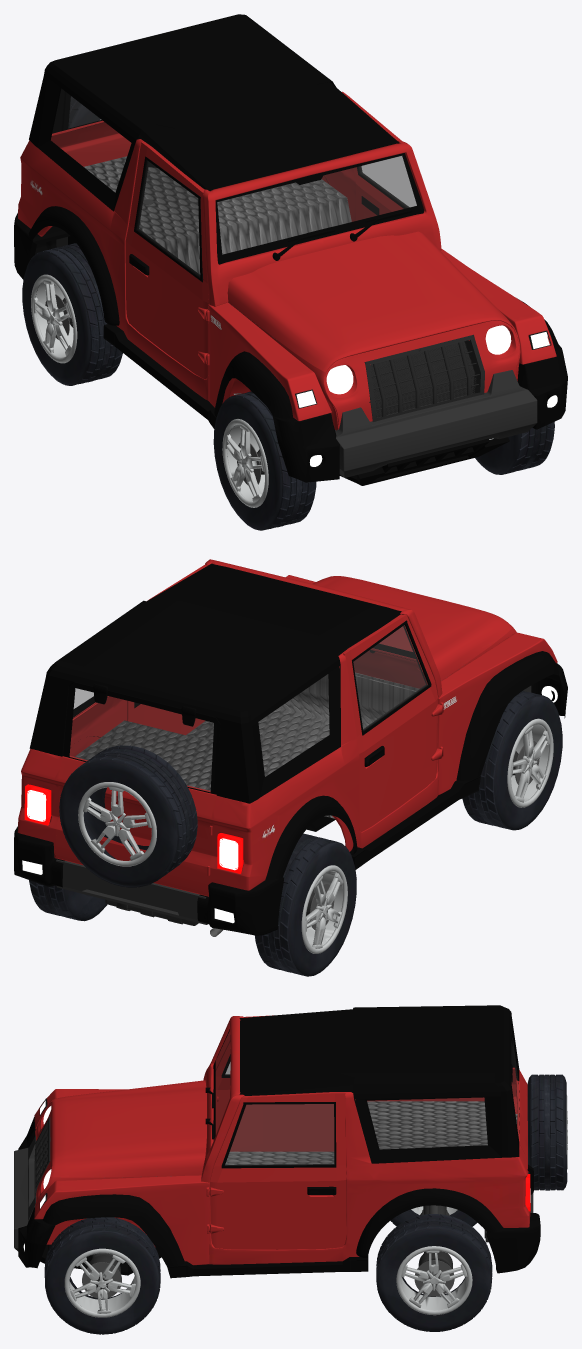
File: mahindra-thar-4x4.glb
3 renders of one model, top to bottom at view 1: azimuth 30°, elevation 25°; view 2: azimuth 150°, elevation 25°; view 3: azimuth 270°, elevation 25°, orthographic. The views are drawn at different scales.
Parts seen in each view (by area): view 1: Object_20, Object_16, Object_39, Object_41, Object_31, Object_6, Object_18, Object_45, Object_43, Object_4, Object_34, Object_47 (+11 smaller); view 2: Object_20, Object_31, Object_41, Object_39, Object_18, Object_6, Object_34, Object_47, Object_16, Object_43, Object_4, Object_27 (+5 smaller); view 3: Object_20, Object_31, Object_18, Object_41, Object_16, Object_39, Object_6, Object_47, Object_34, Object_5, Object_43, Object_45 (+9 smaller).
Part boxes in pixels (left/top/right/bottom): Object_20: left=29, top=14, right=399, bottom=428; Object_16: left=227, top=231, right=511, bottom=372; Object_39: left=51, top=89, right=416, bottom=276; Object_41: left=18, top=131, right=441, bottom=400; Object_31: left=22, top=96, right=554, bottom=530; Object_6: left=84, top=156, right=503, bottom=394; Object_18: left=125, top=91, right=403, bottom=379; Object_45: left=335, top=370, right=537, bottom=477; Object_43: left=14, top=213, right=567, bottom=482; Object_4: left=208, top=302, right=331, bottom=421; Object_34: left=31, top=119, right=493, bottom=507; Object_47: left=28, top=176, right=558, bottom=418; Object_20: left=29, top=563, right=480, bottom=869; Object_31: left=29, top=690, right=562, bottom=976; Object_41: left=17, top=559, right=442, bottom=896; Object_39: left=70, top=625, right=427, bottom=791; Object_18: left=127, top=564, right=443, bottom=875; Object_6: left=75, top=672, right=419, bottom=818; Object_34: left=78, top=718, right=553, bottom=953; Object_47: left=93, top=651, right=559, bottom=879; Object_16: left=312, top=576, right=512, bottom=680; Object_43: left=14, top=663, right=567, bottom=935; Object_4: left=438, top=632, right=557, bottom=794; Object_27: left=55, top=755, right=216, bottom=895; Object_20: left=167, top=1005, right=519, bottom=1278; Object_31: left=44, top=1074, right=567, bottom=1334; Object_18: left=206, top=1015, right=346, bottom=1249; Object_41: left=201, top=1016, right=530, bottom=1264; Object_16: left=50, top=1080, right=206, bottom=1177; Object_39: left=216, top=1032, right=519, bottom=1165; Object_6: left=156, top=1101, right=517, bottom=1176; Object_47: left=42, top=1188, right=503, bottom=1266; Object_34: left=64, top=1095, right=567, bottom=1317; Object_5: left=34, top=1175, right=209, bottom=1265; Object_43: left=18, top=1117, right=540, bottom=1273; Object_45: left=14, top=1136, right=39, bottom=1251.
Size of the model in its own units: 14.51 by 13.63 by 28.9.
Materials: 36 (22 with a texture image).
